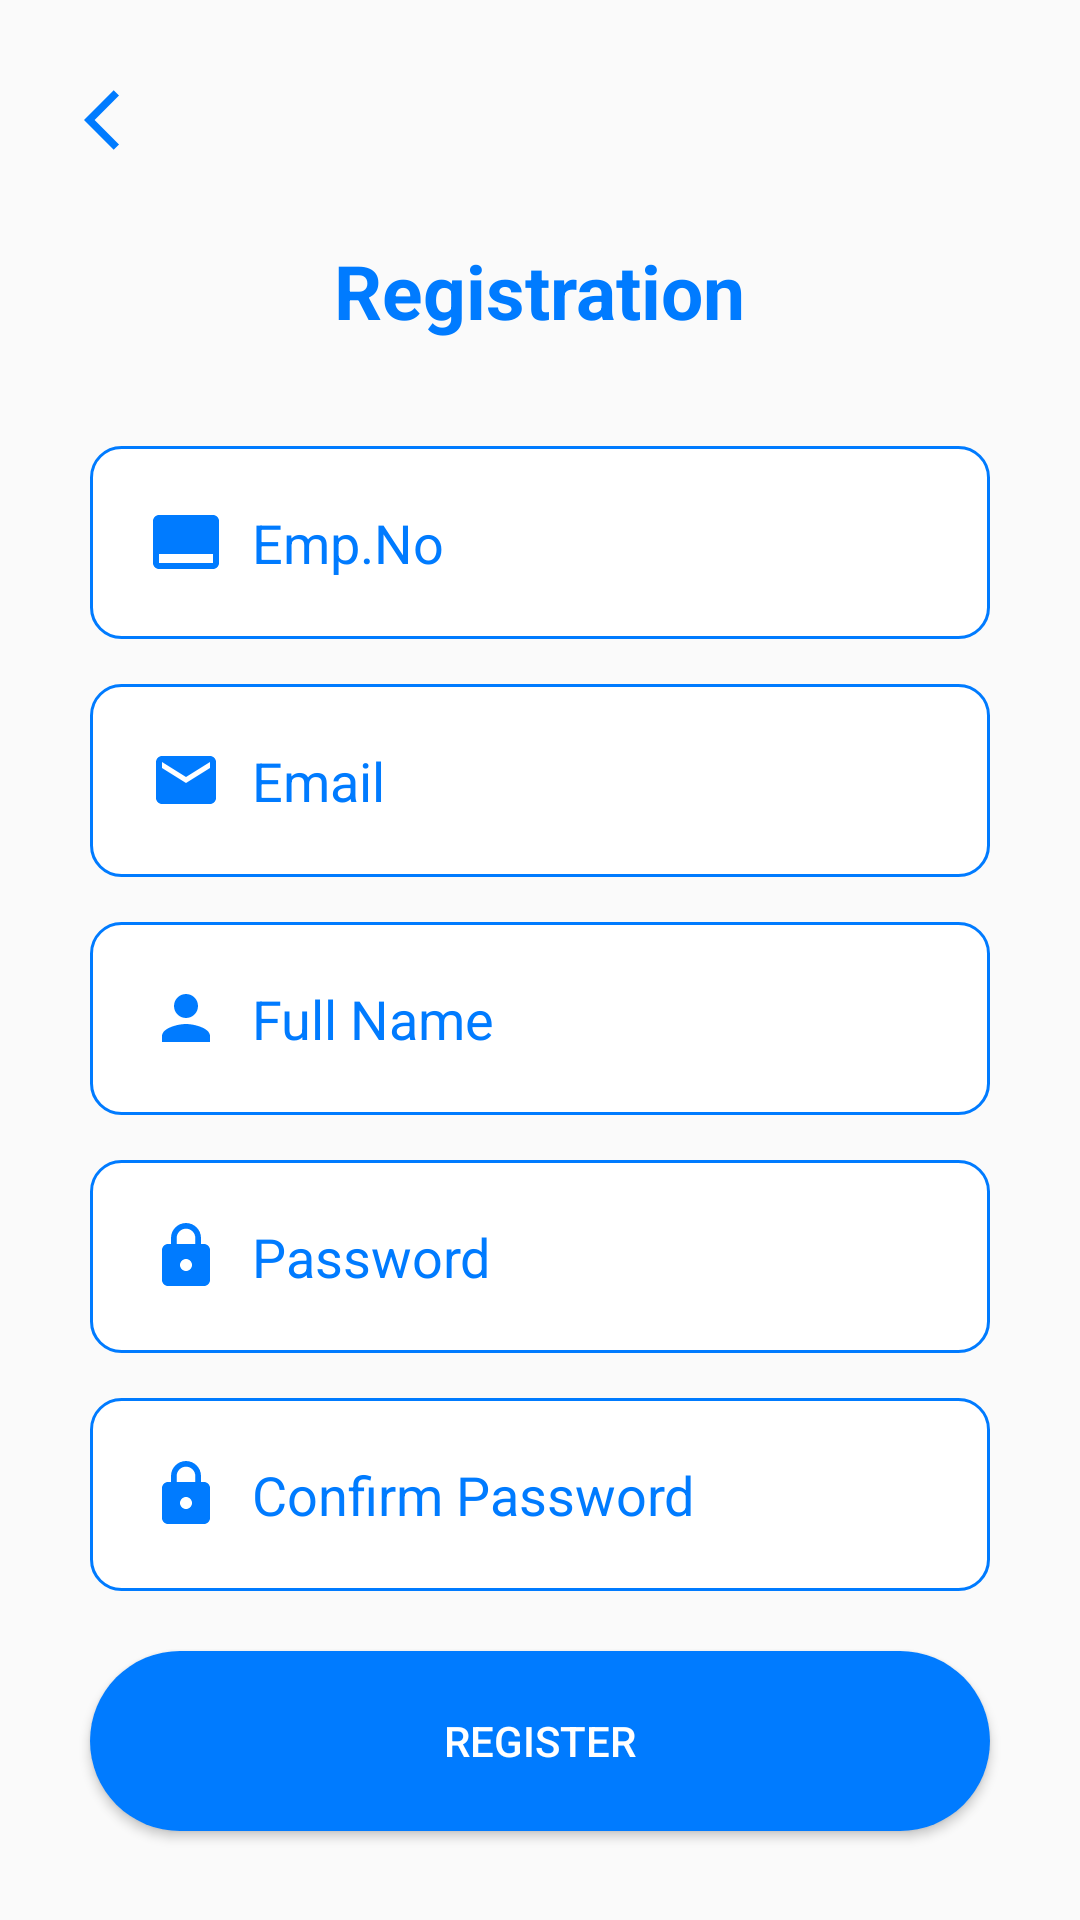

Icons on this 1080px×1920px Android screen, each with the point to tap as point (x, y):
arrow back: point (101, 120)
